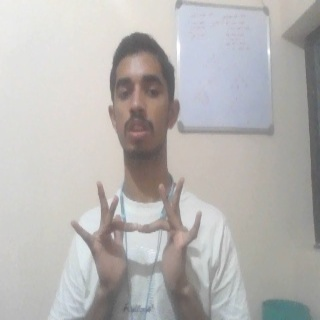Face: (104, 31, 181, 164)
Internet: (67, 175, 211, 304)
